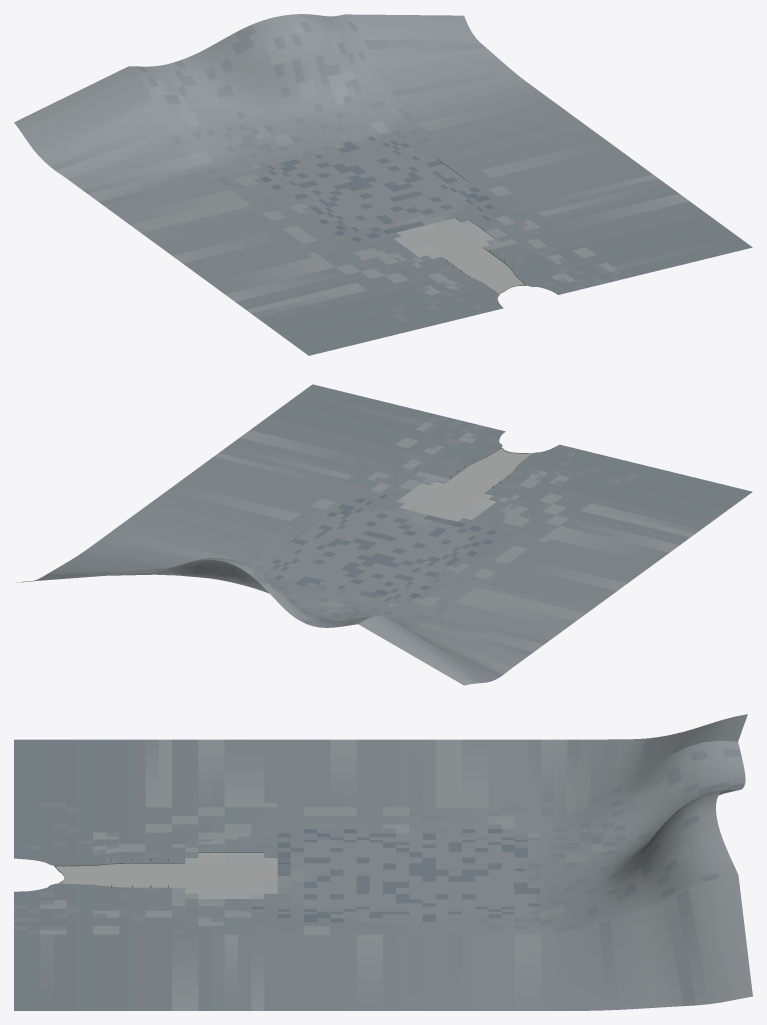
The model's file is SceneShoot_Gray.fbx.
3 renders of one model, top to bottom at view 1: azimuth 30°, elevation 25°; view 2: azimuth 150°, elevation 25°; view 3: azimuth 270°, elevation 25°, orthographic. The views are drawn at different scales.
Visible parts, largest first — view 1: Scene_Gray; view 2: Scene_Gray; view 3: Scene_Gray.
Boxes of the visible parts, left/top/right/bottom form: Scene_Gray: left=14, top=14, right=752, bottom=355; Scene_Gray: left=15, top=384, right=752, bottom=685; Scene_Gray: left=14, top=714, right=752, bottom=1010.
Size of the model in its own units: 16816 by 2613 by 18958.
